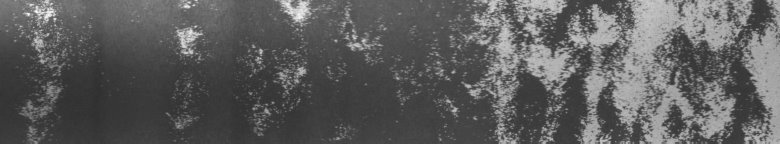kb: (5, 4, 92, 136)
